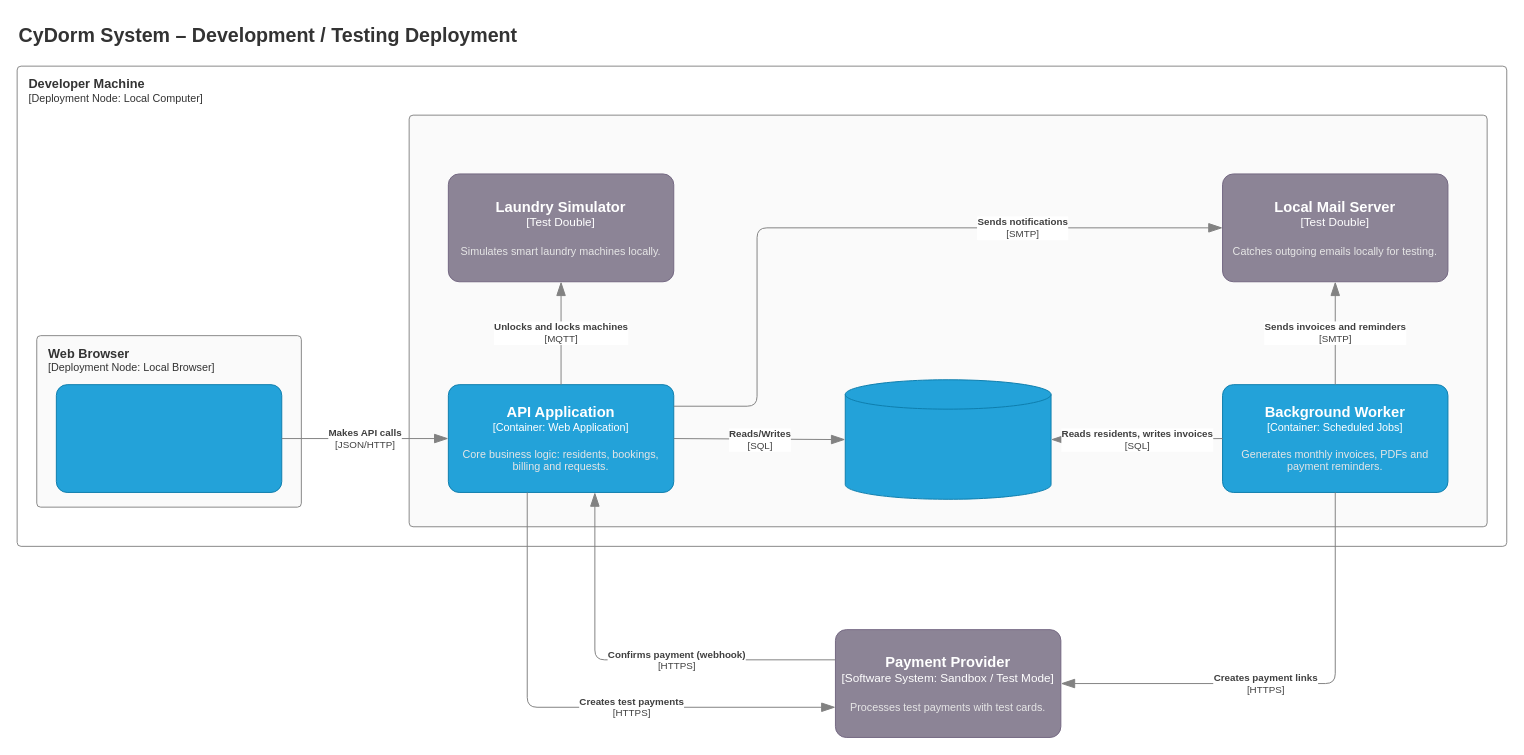
Some shapes in this 1524 by 755 pixel diagram are drawn without their labels. The box of each missing label's shape, as (x1, y1, x2, y2) in pixels:
Database [Container: Relational Database] Local database with test data.: (844, 379, 1051, 499)
Docker Compose [Deployment Node: Local Containers]: (408, 114, 1487, 527)
UI [Container: Single Page Application] UI served locally with live reload.: (55, 384, 282, 492)
